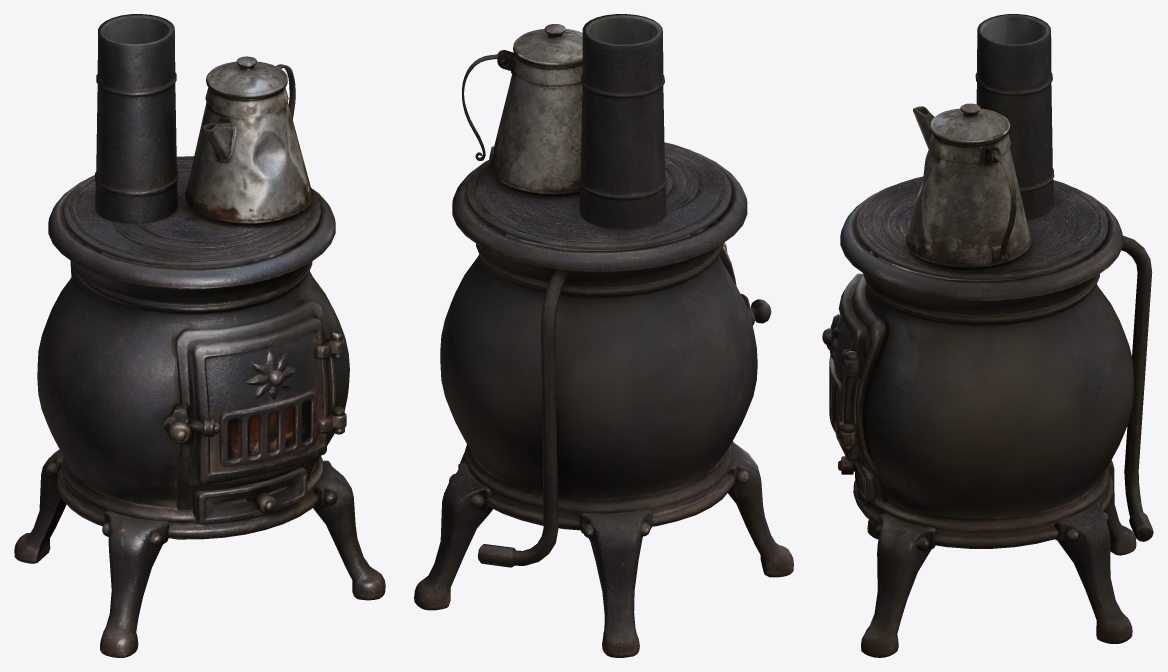
The model's file is stove.glb.
3 views of the same model, side by side, from view 1: azimuth 30°, elevation 25°; view 2: azimuth 150°, elevation 25°; view 3: azimuth 270°, elevation 25° (orthographic). The views are drawn at different scales.
Visible parts, largest first — view 1: tripo_node_a2c1f100-97cc-404c-9075-c57621de636c; view 2: tripo_node_a2c1f100-97cc-404c-9075-c57621de636c; view 3: tripo_node_a2c1f100-97cc-404c-9075-c57621de636c.
Part boxes in pixels (bbox=[...]): tripo_node_a2c1f100-97cc-404c-9075-c57621de636c: bbox=[14, 14, 385, 657]; tripo_node_a2c1f100-97cc-404c-9075-c57621de636c: bbox=[414, 14, 793, 657]; tripo_node_a2c1f100-97cc-404c-9075-c57621de636c: bbox=[822, 14, 1153, 657].
Size of the model in its own units: 0.5269 by 0.9995 by 0.5522.
Materials: 1 (1 with a texture image).
